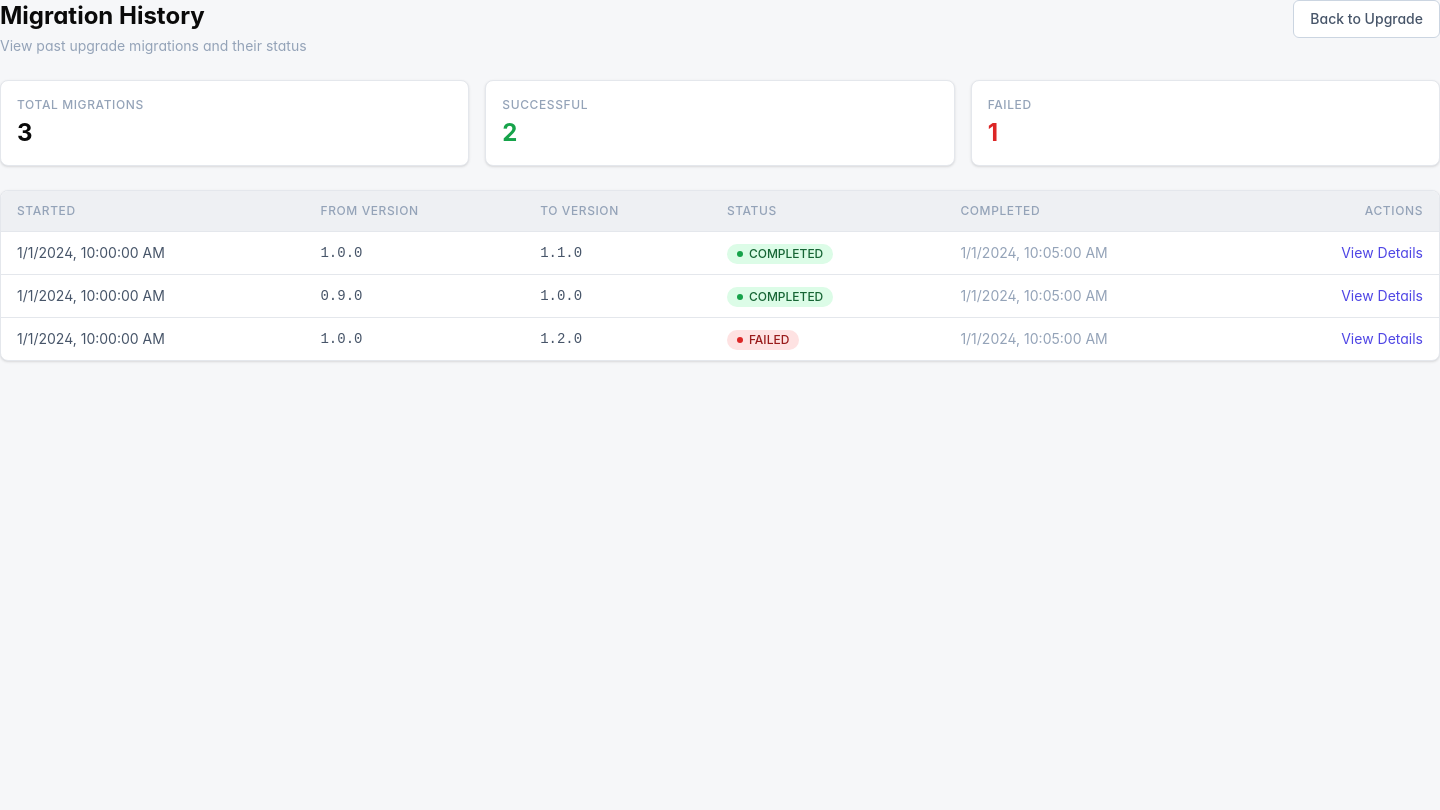
Test: MigrationHistoryPage › opens detail modal when View Details is clicked
Step 1. Click the button "View Details" in the row of "1.1.0" → (1382, 253), box left=1341, top=243, right=1423, bottom=263
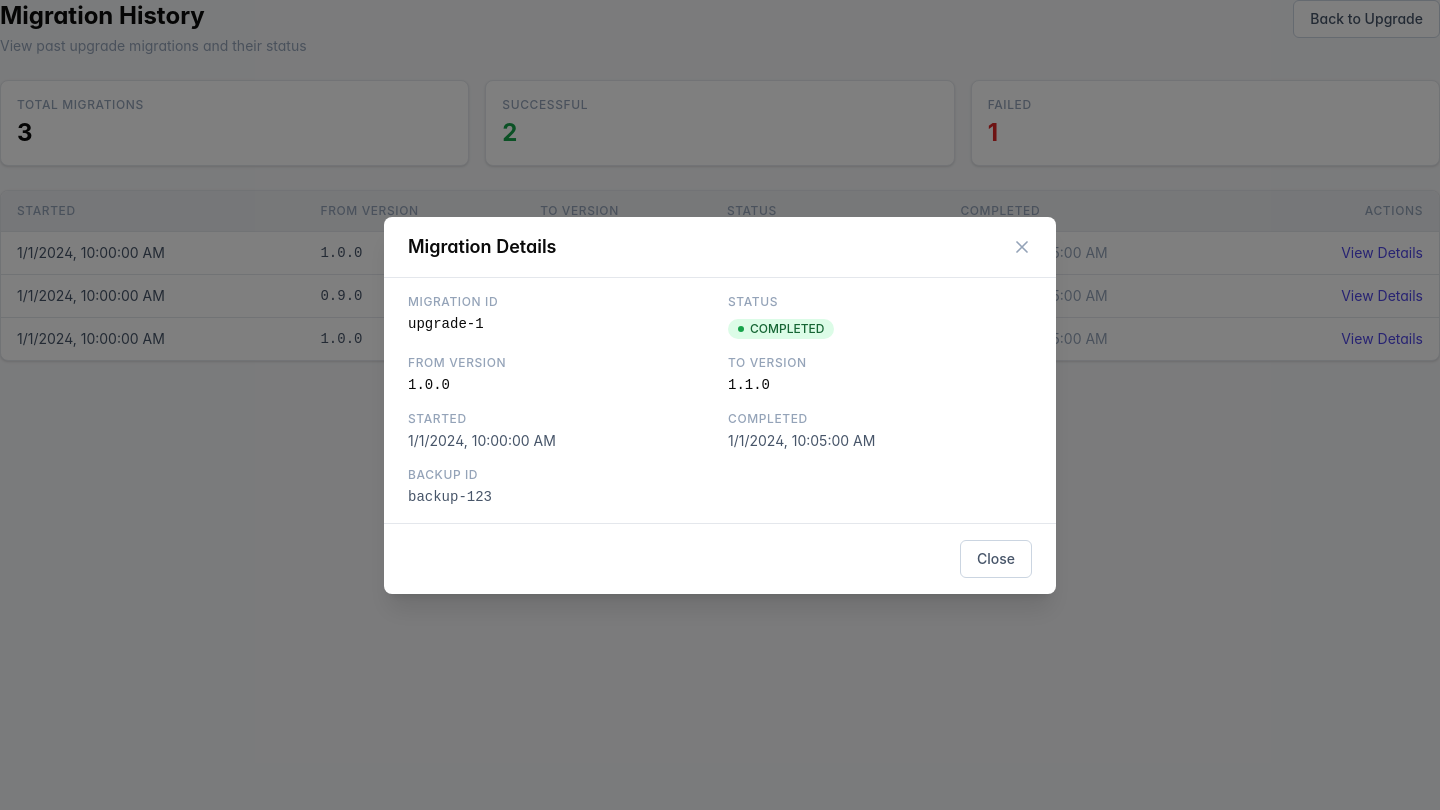
Result: the heading "Migration Details" is shown at left=408, top=232, right=556, bottom=260
